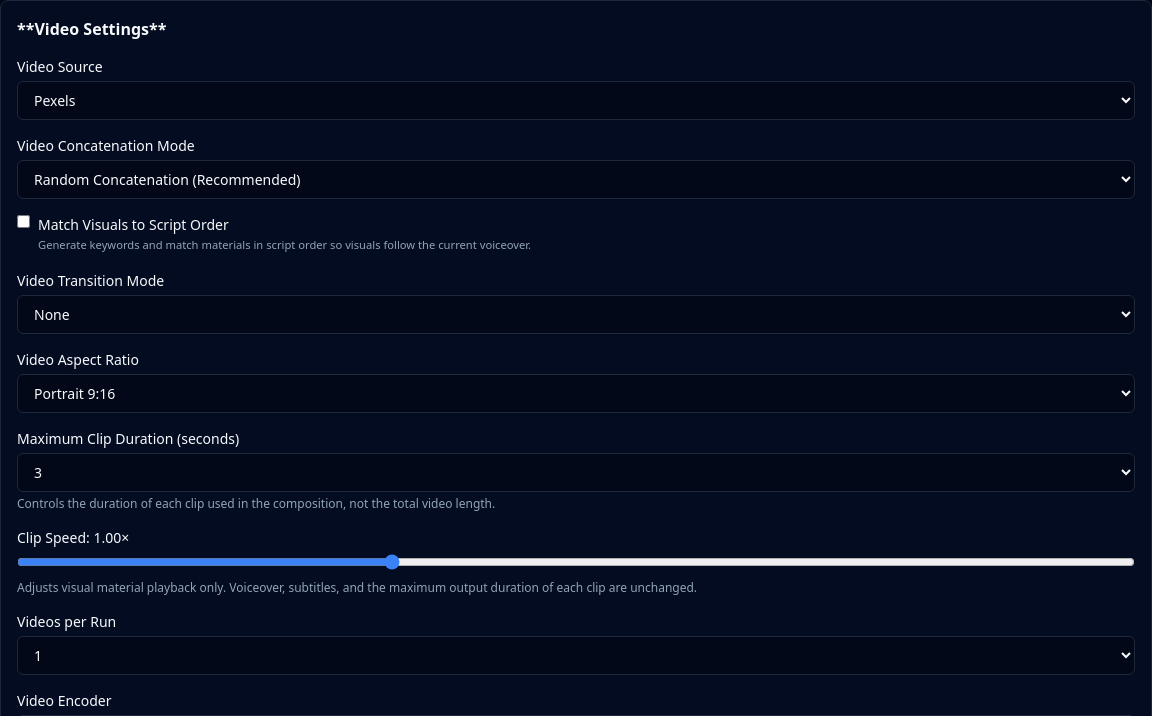
VideoPanel › locks sequential concatenation while ordered matching is enabled
The width and height of the screenshot is (1152, 716).
Step 1. Click the checkbox labelled "Match Visuals to Script Order" → (24, 222), box x1=17 y1=215 x2=30 y2=228
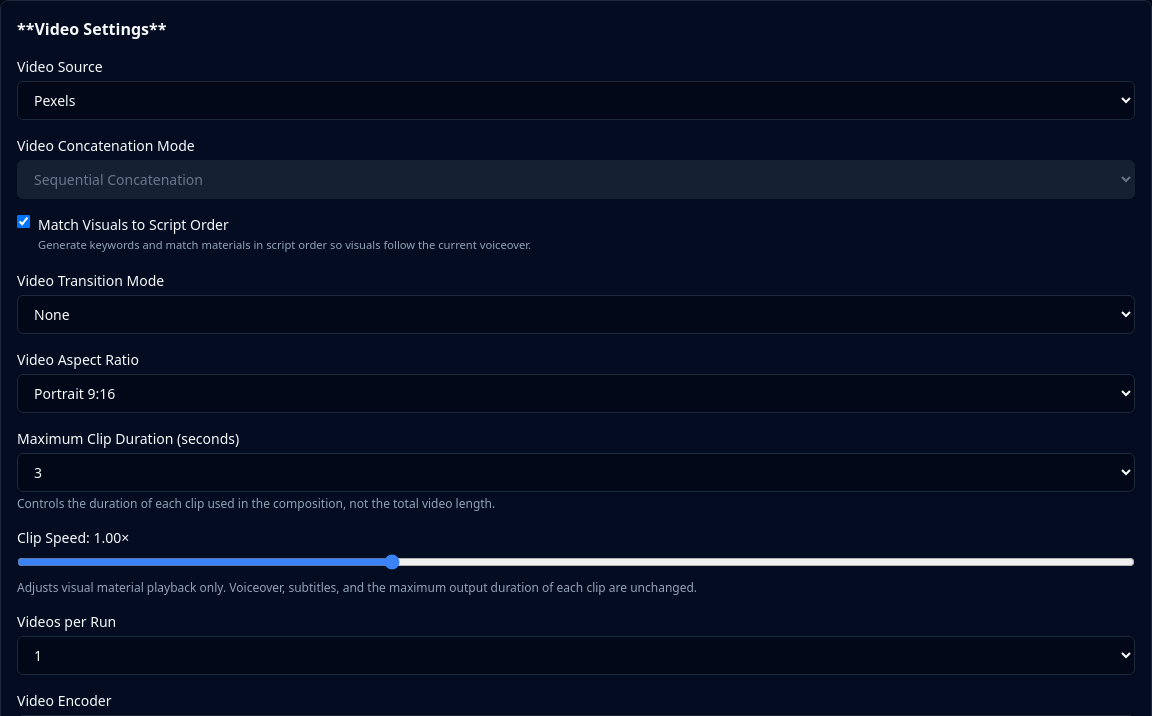
Now the dropdown labelled "Video Concatenation Mode" is disabled, box x1=17 y1=160 x2=1135 y2=199
